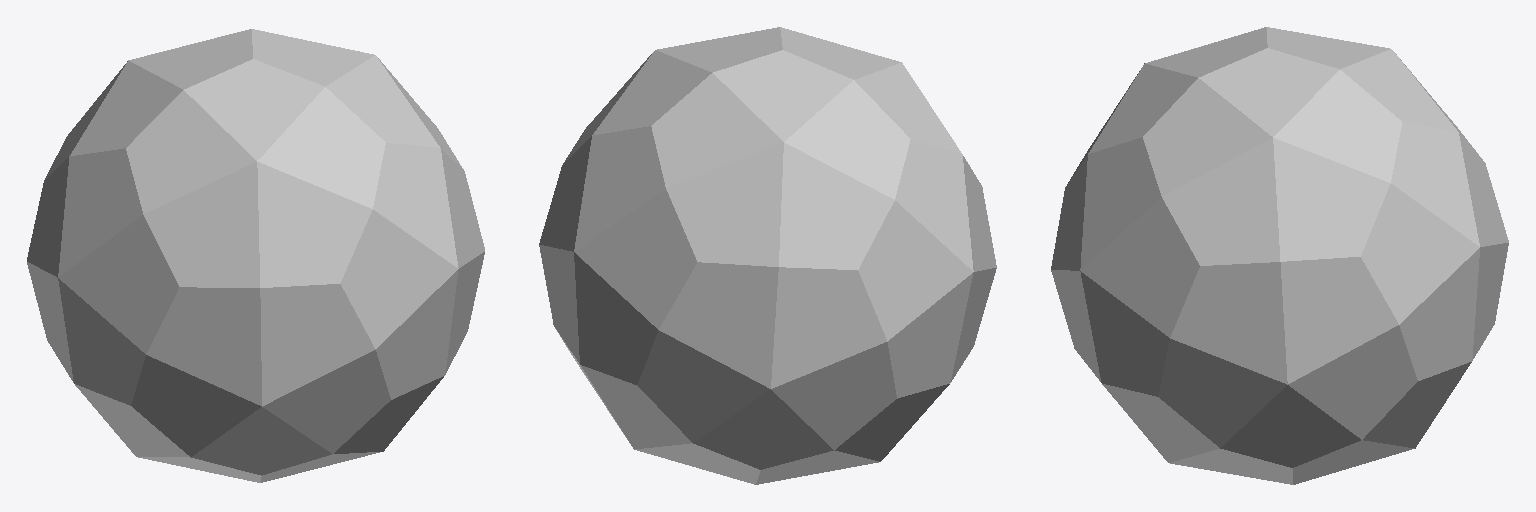
Rendered from TrapezoidalHexeContahedron.obj.
3 renders of one model, left to right at view 1: azimuth 30°, elevation 25°; view 2: azimuth 150°, elevation 25°; view 3: azimuth 270°, elevation 25°, orthographic.
Visible parts, largest first — view 1: TrapezoidalHexeContahedron; view 2: TrapezoidalHexeContahedron; view 3: TrapezoidalHexeContahedron.
Part boxes in pixels (bbox=[...]): TrapezoidalHexeContahedron: bbox=[27, 29, 484, 482]; TrapezoidalHexeContahedron: bbox=[539, 27, 996, 484]; TrapezoidalHexeContahedron: bbox=[1051, 27, 1508, 484].
Bounding box in the file's own units: 2.75 × 2.65 × 2.7.